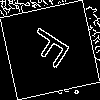F: (25, 25, 80, 75)
